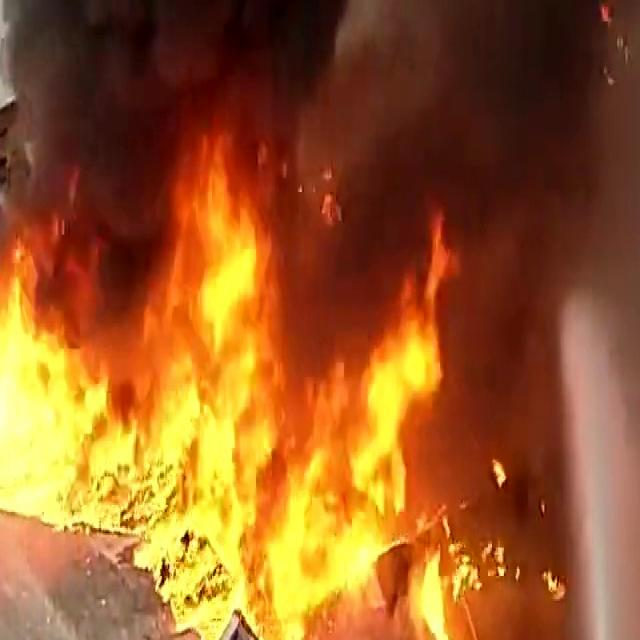fire: (67, 172, 317, 638), (220, 222, 475, 640), (0, 226, 107, 521)
smoke: (14, 0, 576, 196)
